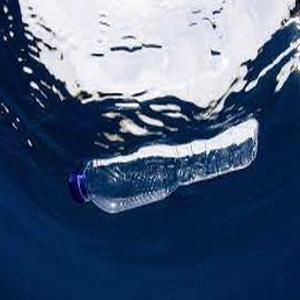Plastic: (78, 113, 262, 214)
